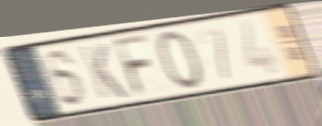4: (241, 16, 281, 78)
6: (43, 48, 89, 108)
7: (195, 26, 232, 82)
F: (111, 32, 157, 101)
K: (77, 41, 131, 102)
O: (155, 28, 207, 91)
